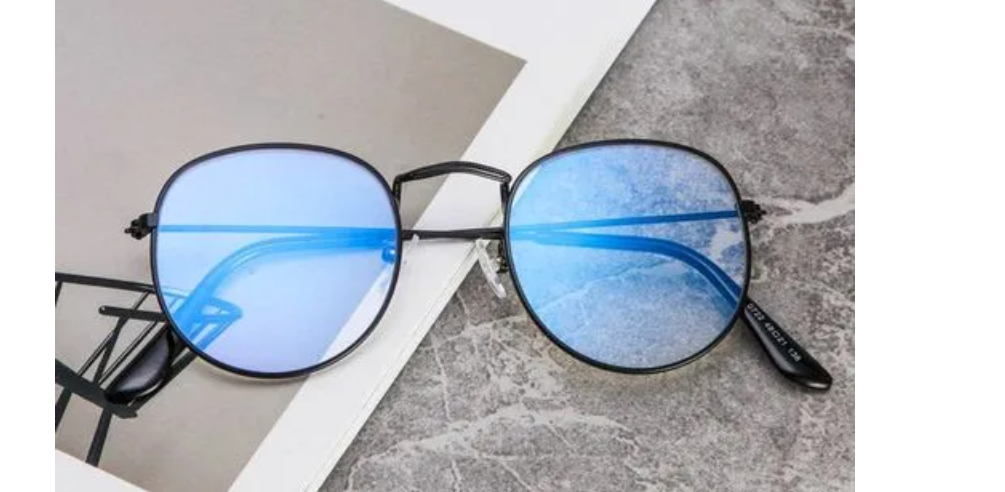glass: (130, 128, 822, 400)
